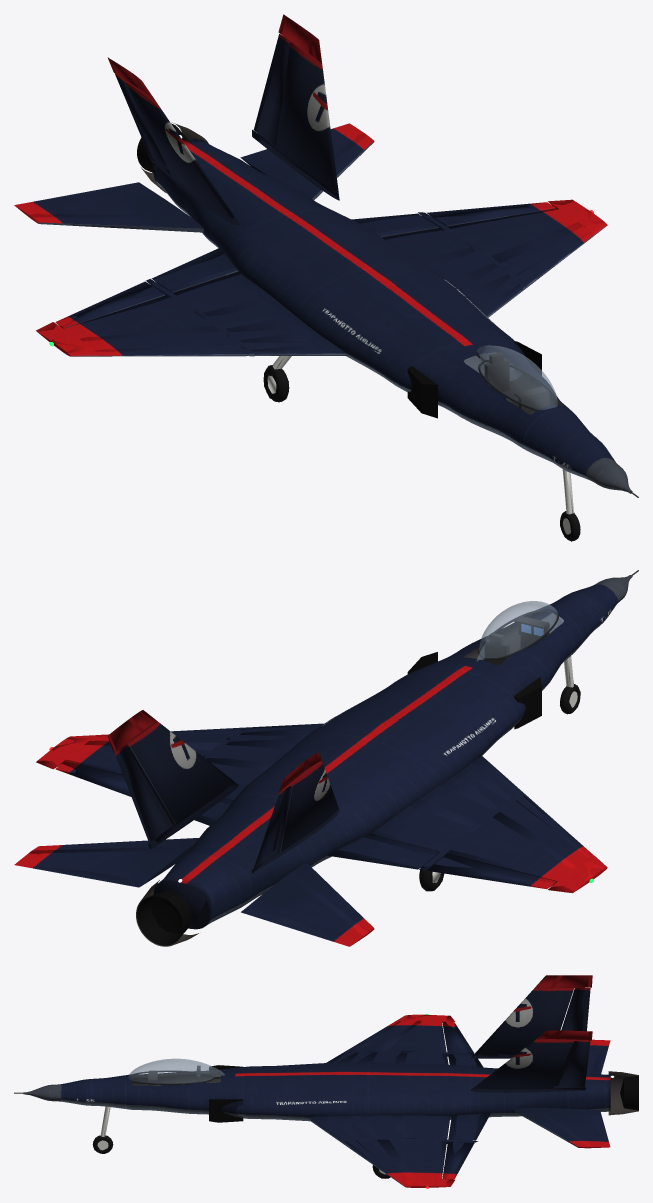
The picture shows the model from 3 angles, top to bottom: view 1: azimuth 30°, elevation 25°; view 2: azimuth 150°, elevation 25°; view 3: azimuth 270°, elevation 25°; orthographic projection. The views are drawn at different scales.
Visible parts, largest first — view 1: Skin_LOD2_mesh, Fuselage_LOD1_mesh, Wing_R_LOD0_mesh, Wing_L_LOD0_mesh, Elevator_R_LOD0_mesh, Canopy_LOD0_mesh, Canopy_LOD1_mesh, Fuselage_LOD0_mesh, Elevator_L_LOD0_mesh, Cabin_LOD0_mesh, Intakes_LOD0_mesh, Flap_R_LOD0_mesh (+2 smaller); view 2: Skin_LOD2_mesh, Fuselage_LOD1_mesh, Wing_R_LOD0_mesh, Wing_L_LOD0_mesh, Elevator_L_LOD0_mesh, Elevator_R_LOD0_mesh, Canopy_LOD0_mesh, Canopy_LOD1_mesh, Fuselage_LOD0_mesh, Cabin_LOD0_mesh, Flap_R_LOD0_mesh, Intakes_LOD0_mesh (+5 smaller); view 3: Skin_LOD2_mesh, Fuselage_LOD1_mesh, Wing_L_LOD0_mesh, Wing_R_LOD0_mesh, Elevator_L_LOD0_mesh, Canopy_LOD0_mesh, Canopy_LOD1_mesh, Fuselage_LOD0_mesh, Cabin_LOD0_mesh, Nozzle_LOD0_mesh, Intakes_LOD0_mesh, Fin_L_LOD0_mesh (+6 smaller).
Boxes of the visible parts, x1,y1,x2,y2 form: Skin_LOD2_mesh: (14,14,632,493); Fuselage_LOD1_mesh: (153,139,632,492); Wing_R_LOD0_mesh: (37,274,347,356); Wing_L_LOD0_mesh: (385,201,607,317); Elevator_R_LOD0_mesh: (15,187,203,228); Canopy_LOD0_mesh: (477,345,557,409); Canopy_LOD1_mesh: (477,345,557,409); Fuselage_LOD0_mesh: (156,146,630,492); Elevator_L_LOD0_mesh: (241,124,374,198); Cabin_LOD0_mesh: (484,352,563,414); Intakes_LOD0_mesh: (407,341,541,418); Flap_R_LOD0_mesh: (154,253,234,292); Skin_LOD2_mesh: (14,575,631,946); Fuselage_LOD1_mesh: (153,575,632,929); Wing_R_LOD0_mesh: (370,755,607,891); Wing_L_LOD0_mesh: (38,723,322,800); Elevator_L_LOD0_mesh: (15,838,198,886); Elevator_R_LOD0_mesh: (248,863,373,945); Canopy_LOD0_mesh: (477,601,557,660); Canopy_LOD1_mesh: (477,601,557,660); Fuselage_LOD0_mesh: (184,575,631,917); Cabin_LOD0_mesh: (464,613,549,664); Flap_R_LOD0_mesh: (337,837,434,867); Intakes_LOD0_mesh: (407,652,541,729); Skin_LOD2_mesh: (23,975,638,1187); Fuselage_LOD1_mesh: (23,1062,610,1120); Wing_L_LOD0_mesh: (306,1115,473,1187); Wing_R_LOD0_mesh: (326,1014,469,1064); Elevator_L_LOD0_mesh: (515,1108,609,1148); Canopy_LOD0_mesh: (129,1059,224,1082); Canopy_LOD1_mesh: (129,1059,224,1082); Fuselage_LOD0_mesh: (24,1065,610,1119); Cabin_LOD0_mesh: (132,1065,220,1086); Nozzle_LOD0_mesh: (608,1071,638,1114); Intakes_LOD0_mesh: (209,1065,243,1122); Fin_L_LOD0_mesh: (471,1030,591,1092).
Size of the model in its own units: 10.82 by 4.39 by 16.5.
Materials: 12 (1 with a texture image).
